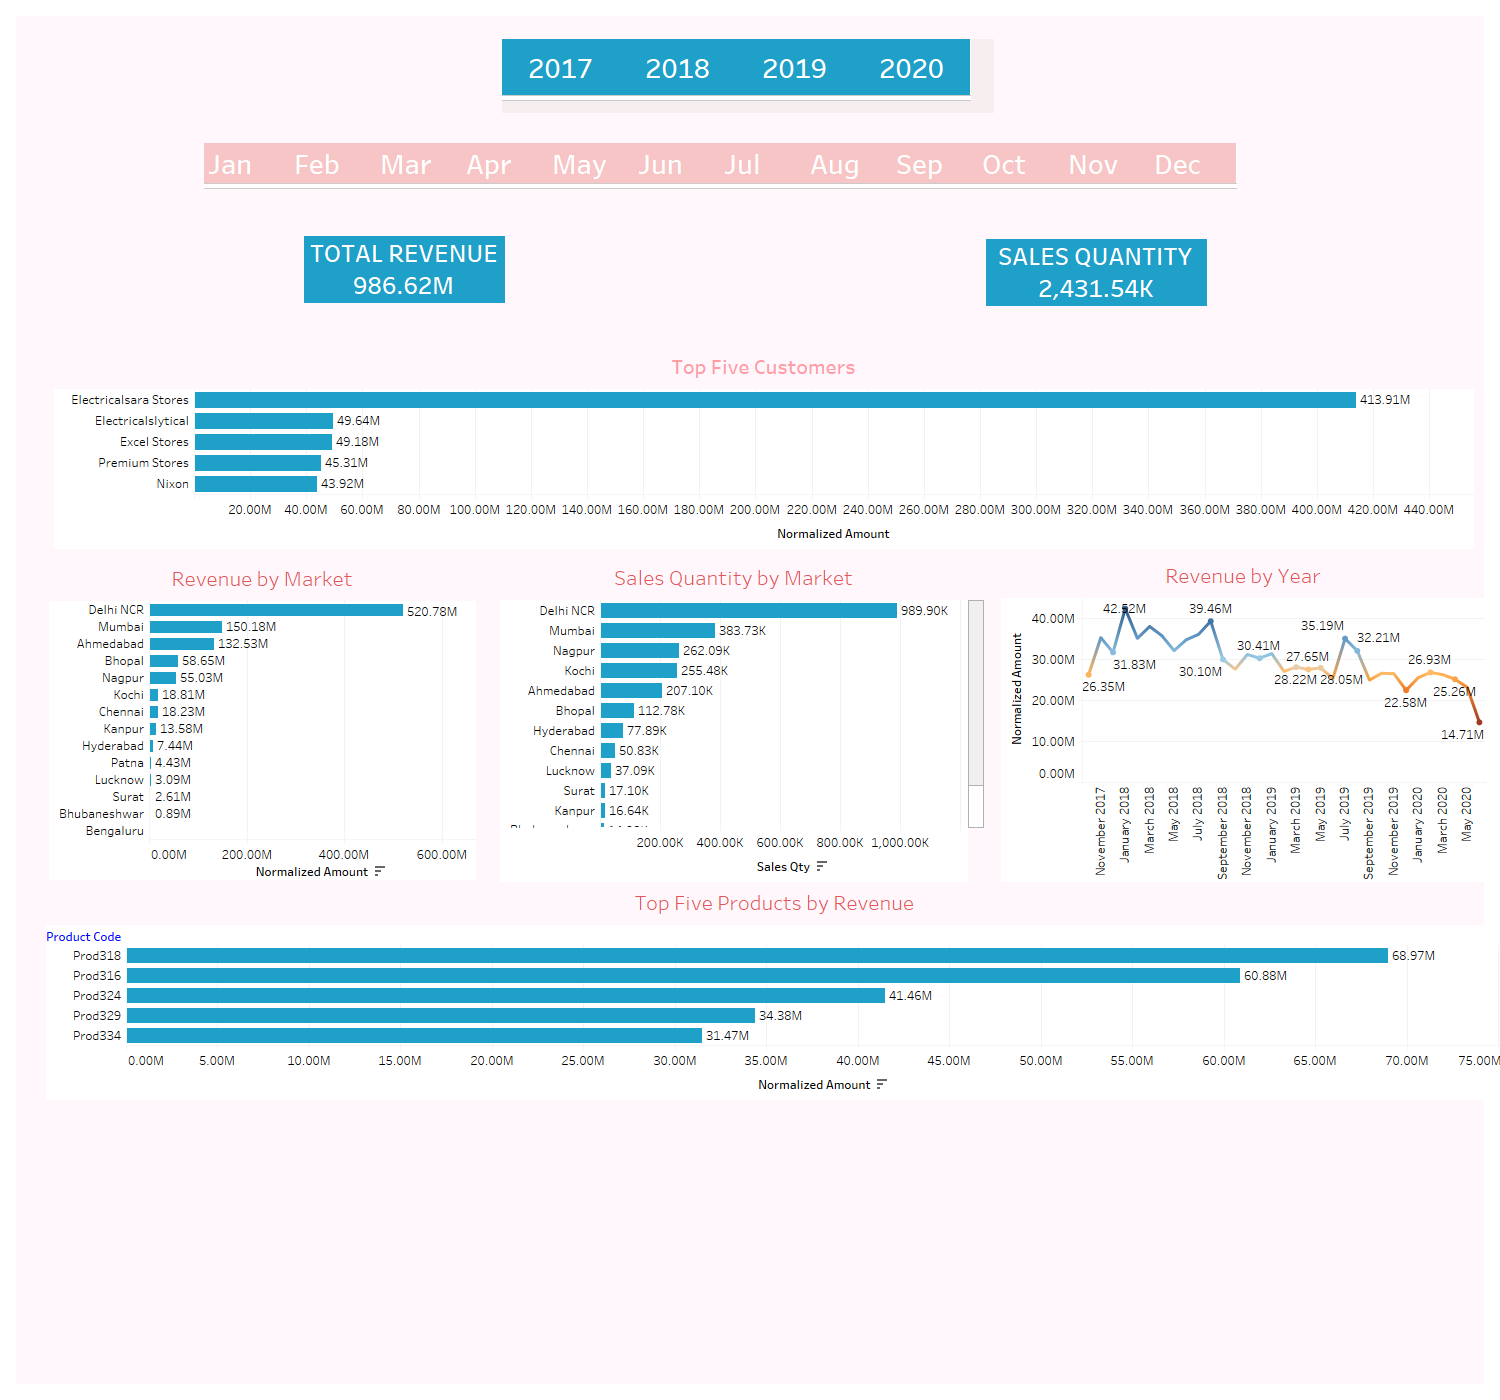

What the dashboard file says about the page in this screenshot:
{"tool":"tableau","page":{"name":"Dashboard 1","canvas":[1500,1400],"ordinal":0},"visuals":[{"type":"worksheet","title":"Year Filter","mark":"Automatic","cols":["cy_date"],"box":[502,39,492,74]},{"type":"worksheet","title":"Month Filter","mark":"Automatic","cols":["cy_date"],"box":[204,143,1068,99]},{"type":"worksheet","title":"total revenue","mark":"Automatic","box":[304,236,208,75]},{"type":"worksheet","title":"sales quantity","mark":"Automatic","box":[986,239,316,72]},{"type":"worksheet","title":"Top Five Customers","mark":"Automatic","rows":["custmer_name"],"cols":["Calculation_236439021907369984"],"box":[54,346,1419,243]},{"type":"worksheet","title":"Revenue by Year","mark":"Automatic","rows":["Calculation_236439021907369984"],"cols":["cy_date"],"box":[1001,555,484,327]},{"type":"worksheet","title":"Sales Quantity by Market","mark":"Automatic","rows":["markets_name"],"cols":["sales_qty"],"box":[500,557,484,325]},{"type":"worksheet","title":"Revenue by Market","mark":"Automatic","rows":["markets_name"],"cols":["Calculation_236439021907369984"],"box":[49,558,426,326]},{"type":"worksheet","title":"Top Five Products by Revenue","mark":"Automatic","rows":["product_code"],"cols":["Calculation_236439021907369984"],"box":[46,882,1457,263]}]}

Visuals, with their boxes in screenshot pixels (x1, y1, x2, y2), scaled from the page's 1500x1400 canvas onto the 1500x1400 screenshot:
"Year Filter" worksheet: box(502, 39, 994, 113)
"Month Filter" worksheet: box(204, 143, 1272, 242)
"total revenue" worksheet: box(304, 236, 512, 311)
"sales quantity" worksheet: box(986, 239, 1302, 311)
"Top Five Customers" worksheet: box(54, 346, 1473, 589)
"Revenue by Year" worksheet: box(1001, 555, 1485, 882)
"Sales Quantity by Market" worksheet: box(500, 557, 984, 882)
"Revenue by Market" worksheet: box(49, 558, 475, 884)
"Top Five Products by Revenue" worksheet: box(46, 882, 1499, 1145)
